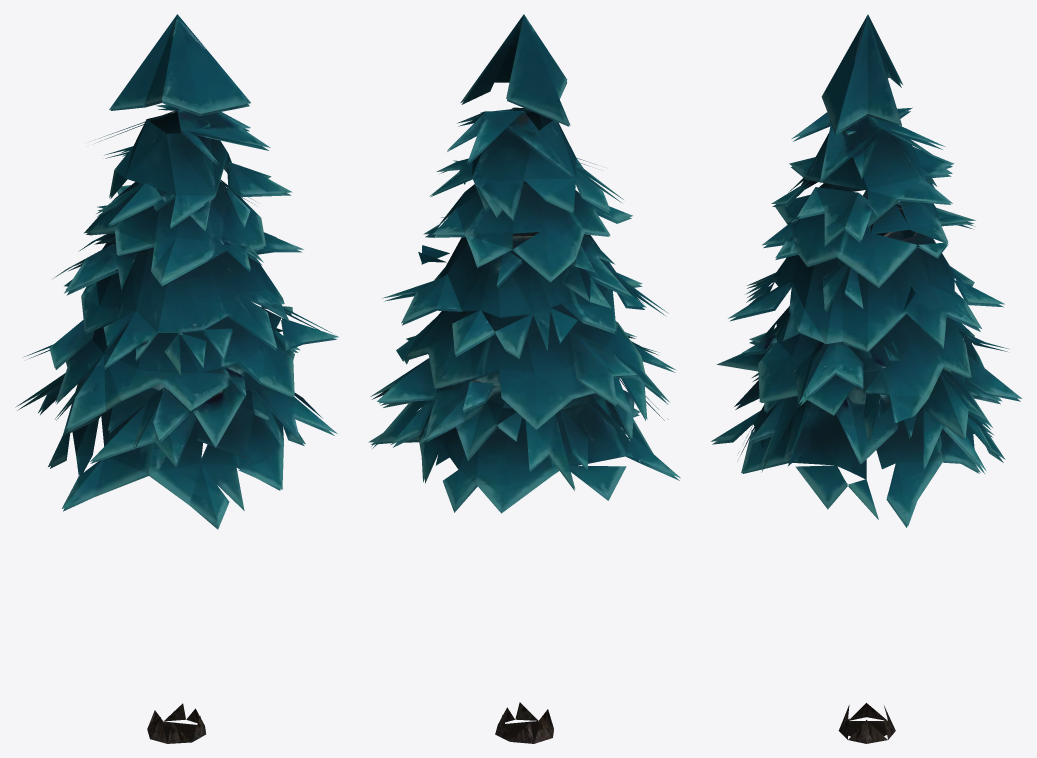
File: tree_pine_tall_LOD1.glb
The picture shows the model from 3 angles, left to right: view 1: azimuth 30°, elevation 25°; view 2: azimuth 150°, elevation 25°; view 3: azimuth 270°, elevation 25°; orthographic projection.
Parts seen in each view (by area): view 1: tree_pine_tall_LOD1; view 2: tree_pine_tall_LOD1; view 3: tree_pine_tall_LOD1.
Boxes of the visible parts, x1,y1,x2,y2 form: tree_pine_tall_LOD1: [15, 14, 338, 743]; tree_pine_tall_LOD1: [368, 14, 680, 743]; tree_pine_tall_LOD1: [711, 14, 1022, 743].
Size of the model in its own units: 0.397 by 0.9993 by 0.395.
1 material, 1 textured.
